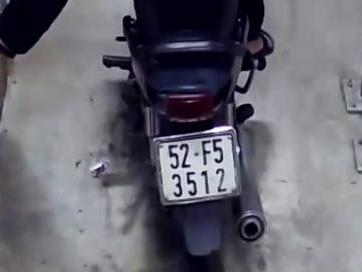num_plate: (150, 128, 241, 207)
